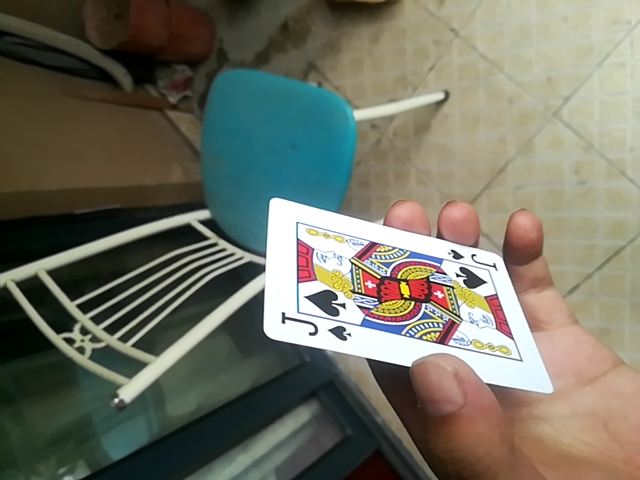ht j: (259, 201, 539, 388)
